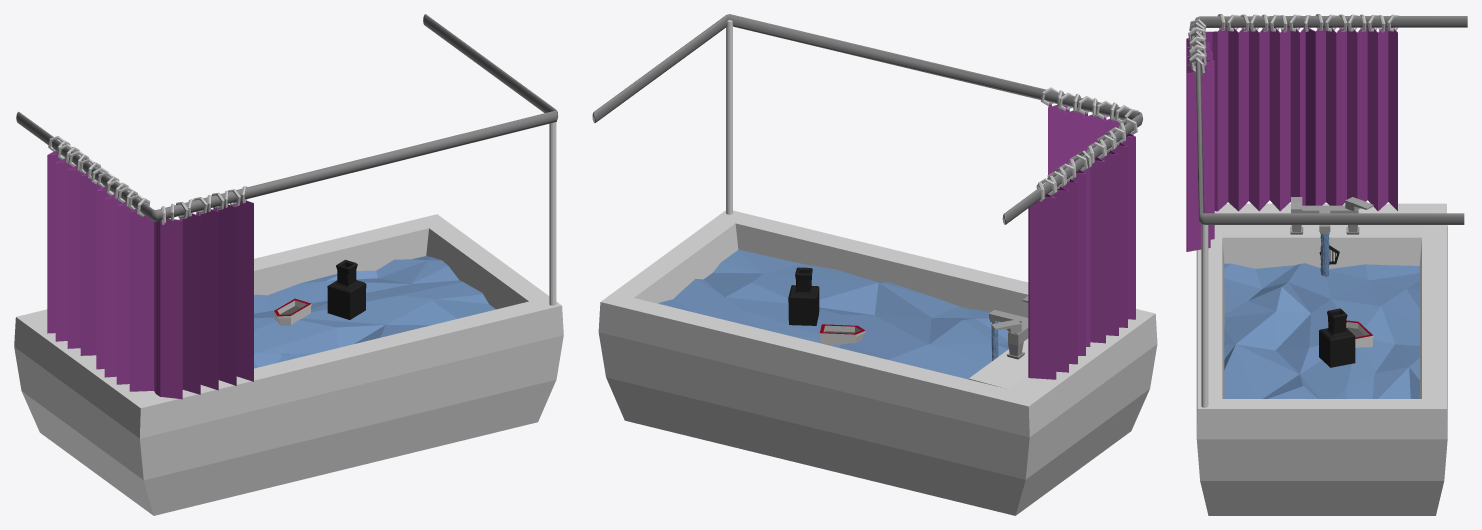
The model's file is Bañera.fbx.
3 views of the same model, side by side, from view 1: azimuth 30°, elevation 25°; view 2: azimuth 150°, elevation 25°; view 3: azimuth 270°, elevation 25° (orthographic).
Visible parts, largest first — view 1: Bathtub, Plane, water, curtain, curtainb, Showerpole, Cube.002, Showersupport, Boat; view 2: Bathtub, water, curtainb, curtain, Showerpole, Plane, Cube.002, Showersupport, Bathtap, Boat; view 3: Bathtub, water, curtain, curtainb, Showerpole, Plane, Cube.002, Showersupport, Bathtap, Boat, waterflow.
Part boxes in pixels (bbox=[...]): Bathtub: bbox=[14, 214, 563, 515]; Plane: bbox=[160, 200, 253, 399]; water: bbox=[254, 256, 495, 368]; curtain: bbox=[96, 183, 160, 396]; curtainb: bbox=[47, 150, 96, 355]; Showerpole: bbox=[16, 14, 558, 221]; Cube.002: bbox=[327, 259, 366, 319]; Showersupport: bbox=[549, 122, 556, 305]; Boat: bbox=[274, 298, 311, 325]; Bathtub: bbox=[598, 210, 1157, 515]; water: bbox=[658, 249, 1008, 379]; curtainb: bbox=[1028, 168, 1088, 379]; curtain: bbox=[1088, 133, 1135, 346]; Showerpole: bbox=[592, 14, 1142, 224]; Plane: bbox=[1048, 102, 1125, 176]; Cube.002: bbox=[788, 267, 819, 325]; Showersupport: bbox=[726, 20, 732, 214]; Bathtap: bbox=[989, 296, 1028, 359]; Boat: bbox=[819, 324, 865, 344]; Bathtub: bbox=[1196, 203, 1447, 515]; water: bbox=[1224, 263, 1419, 398]; curtain: bbox=[1205, 27, 1305, 211]; curtainb: bbox=[1305, 27, 1397, 210]; Showerpole: bbox=[1195, 16, 1467, 224]; Plane: bbox=[1186, 33, 1214, 251]; Cube.002: bbox=[1319, 308, 1355, 367]; Showersupport: bbox=[1201, 224, 1208, 407]; Bathtap: bbox=[1290, 197, 1373, 234]; Boat: bbox=[1346, 320, 1373, 347]; waterflow: bbox=[1320, 234, 1329, 276].
Bounding box in the file's own units: 115 × 199 × 141.
